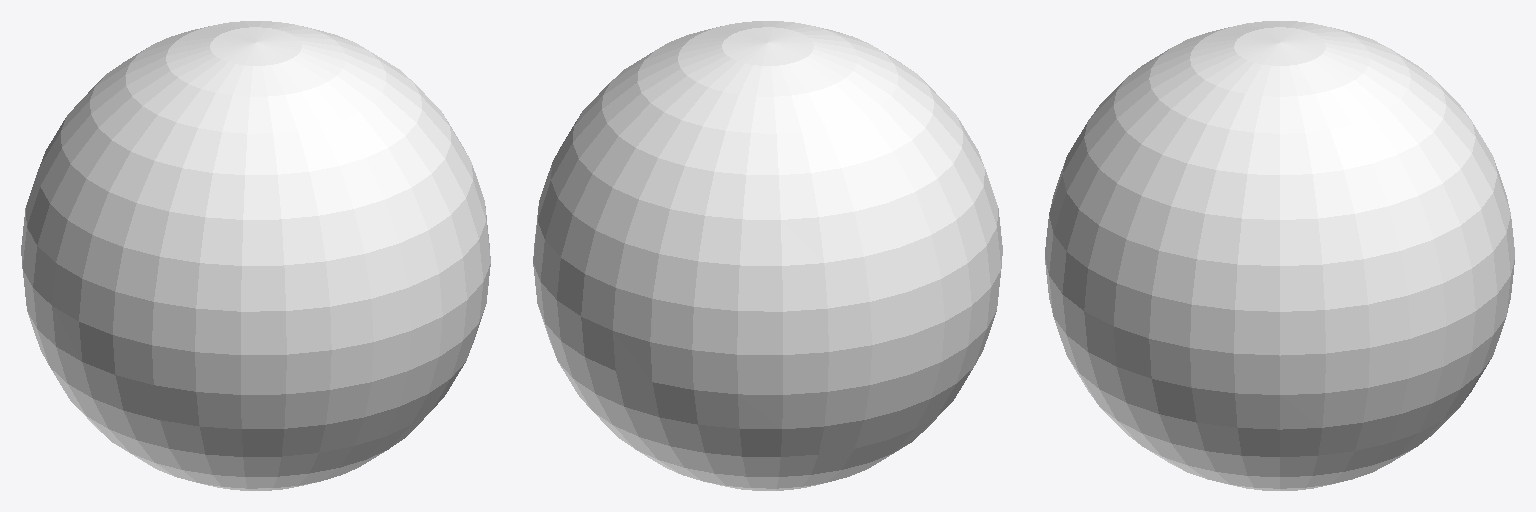
The model's file is earth.obj.
The picture shows the model from 3 angles: view 1: azimuth 30°, elevation 25°; view 2: azimuth 150°, elevation 25°; view 3: azimuth 270°, elevation 25°; orthographic projection.
Parts seen in each view (by area): view 1: Sphere01; view 2: Sphere01; view 3: Sphere01.
Part boxes in pixels (bbox=[...]): Sphere01: bbox=[21, 21, 490, 490]; Sphere01: bbox=[533, 21, 1002, 490]; Sphere01: bbox=[1045, 21, 1514, 490].
Bounding box in the file's own units: 5.53 × 5.53 × 5.53.